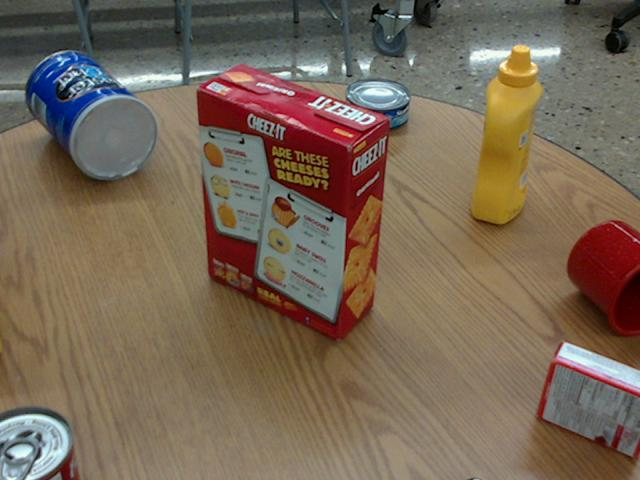cracker_box: (199, 64, 391, 338)
gelatin_box: (539, 342, 639, 458)
master_chef_can: (28, 51, 160, 180)
mug: (568, 219, 639, 335)
mustard_bottle: (472, 44, 543, 222)
potted_meat_can: (241, 86, 326, 196)
sugar_box: (0, 321, 5, 352)
tomato_soup_can: (0, 406, 84, 479)
tuna_fish_can: (346, 76, 412, 130)
